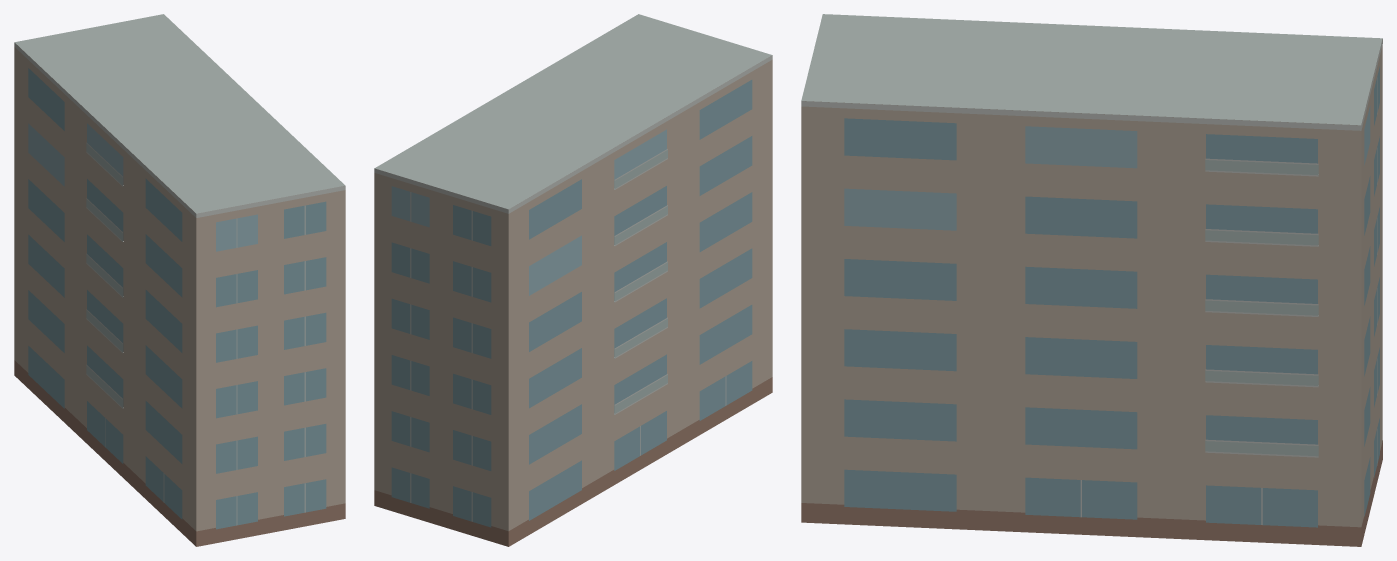
Rendered from survey-upis-32963470.glb.
The picture shows the model from 3 angles, left to right: view 1: azimuth 30°, elevation 25°; view 2: azimuth 150°, elevation 25°; view 3: azimuth 270°, elevation 25°; orthographic projection. The views are drawn at different scales.
Parts seen in each view (by area): view 1: survey-upis-32963470.tmp; view 2: survey-upis-32963470.tmp; view 3: survey-upis-32963470.tmp.
Boxes of the visible parts, <box> form: survey-upis-32963470.tmp: <box>14,14,345,546</box>; survey-upis-32963470.tmp: <box>374,14,772,546</box>; survey-upis-32963470.tmp: <box>801,14,1382,546</box>.
Size of the model in its own units: 10.43 by 18.4 by 23.01.
